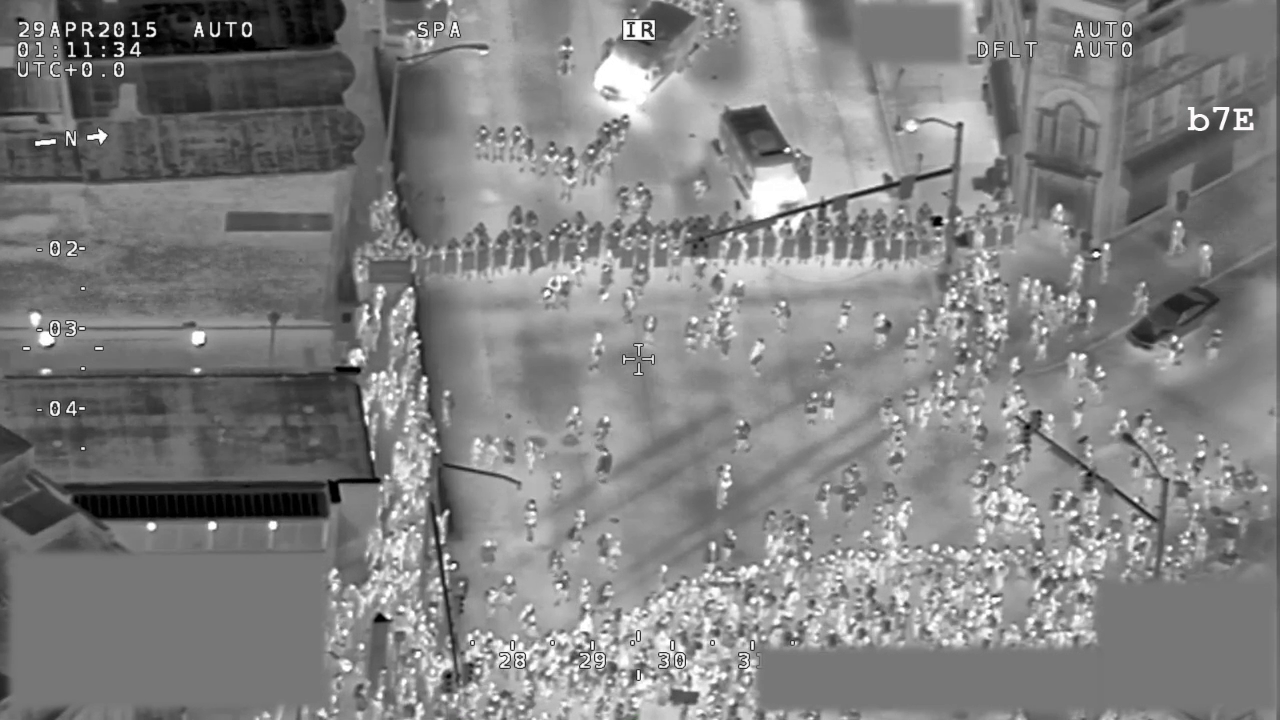vehicle: (710, 103, 817, 217), (588, 2, 701, 108), (1122, 283, 1224, 355)
